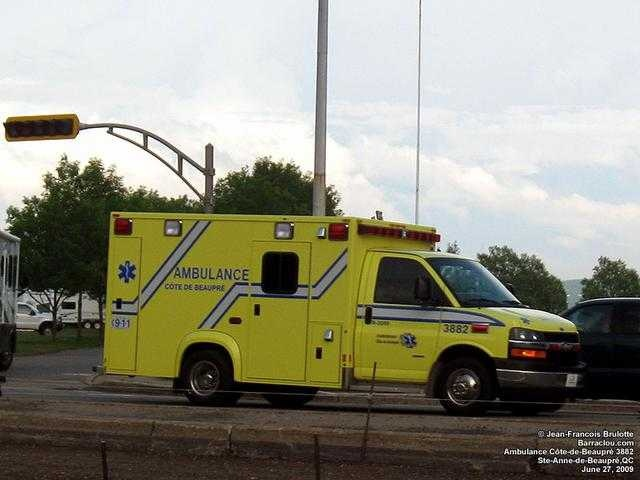Ambulance: (99, 199, 586, 435)
